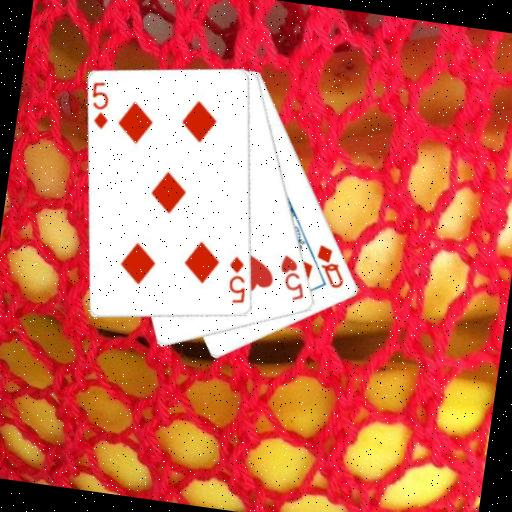5D: (222, 252, 253, 306), (85, 78, 116, 132)
5H: (273, 251, 312, 304)
QD: (309, 241, 351, 291)
